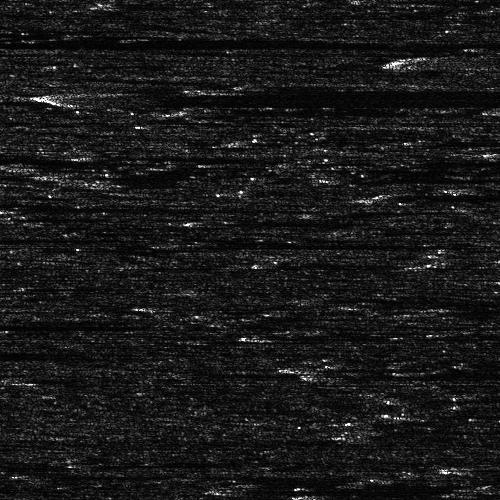object: (264, 358, 347, 375), (411, 461, 500, 476), (351, 189, 444, 200), (203, 484, 256, 497), (138, 239, 191, 246), (436, 183, 489, 190), (176, 218, 239, 223), (0, 202, 33, 211), (474, 275, 500, 284), (415, 57, 446, 64), (68, 154, 99, 157)
shadow: (0, 33, 460, 52), (229, 484, 500, 497), (306, 358, 500, 375), (2, 202, 289, 211), (164, 239, 387, 246), (0, 320, 146, 329), (398, 189, 500, 200), (0, 235, 145, 242), (208, 218, 357, 223), (457, 461, 500, 476), (431, 57, 500, 64), (84, 154, 228, 157), (0, 497, 111, 500), (462, 183, 500, 190)
